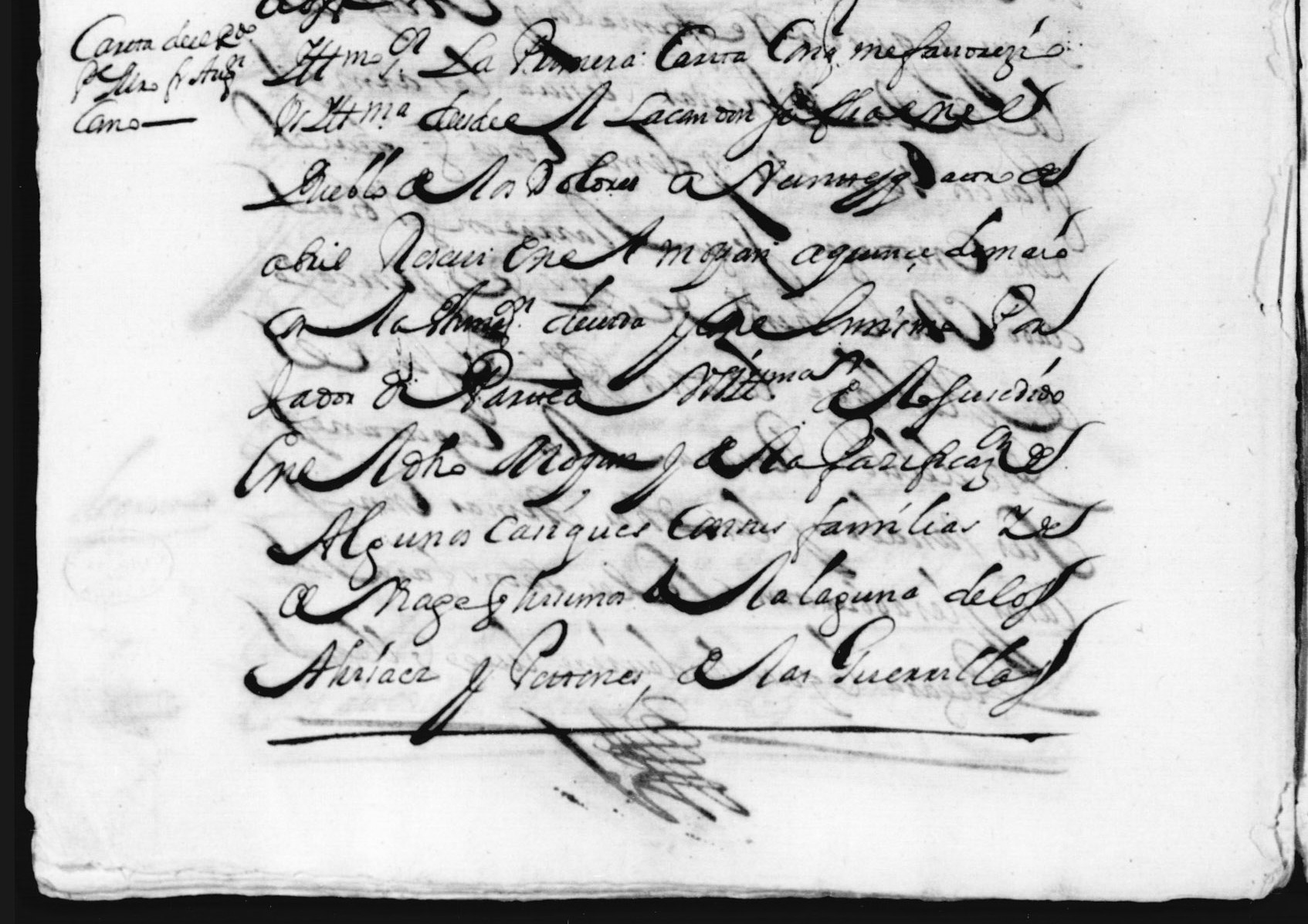lacandon: (603, 91, 754, 127)
